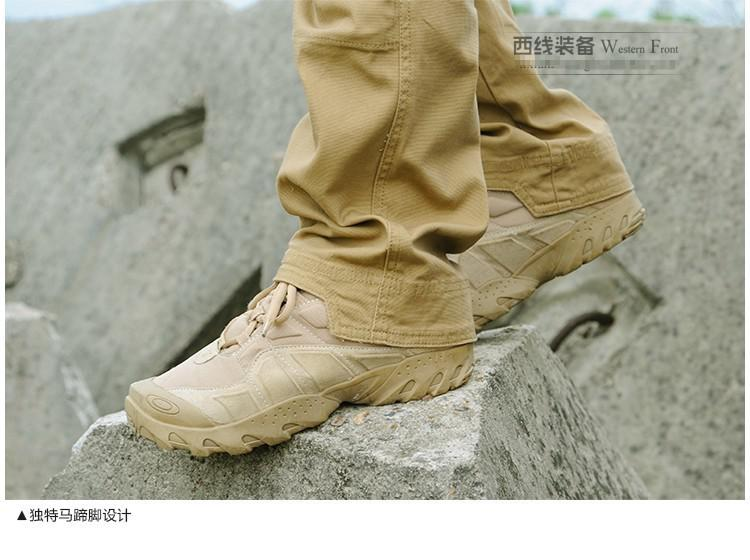pants: (269, 1, 485, 345)
